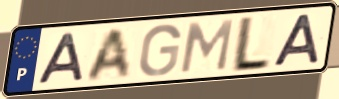A: (271, 12, 322, 68), (83, 26, 132, 84), (35, 31, 86, 86)
G: (137, 22, 183, 79)
L: (227, 14, 274, 75)
M: (177, 17, 236, 75)
